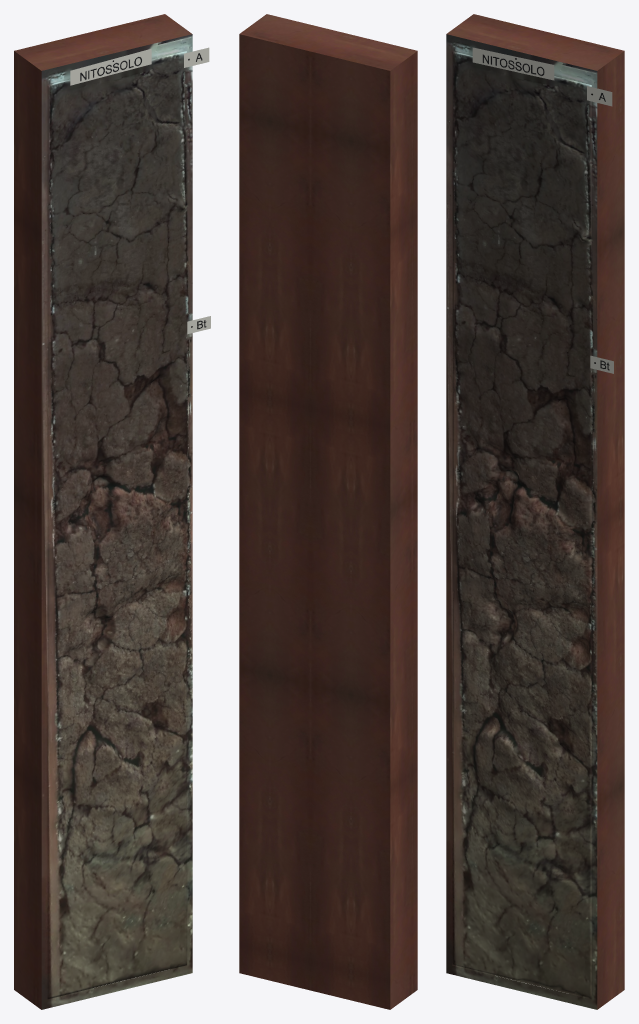
The model's file is perfil_11_11_nitossolo.glb.
3 renders of one model, left to right at view 1: azimuth 30°, elevation 25°; view 2: azimuth 150°, elevation 25°; view 3: azimuth 330°, elevation 25°, orthographic.
Parts seen in each view (by area): view 1: Solo_11_11, Madeira_11_11, Moldura_11_11, Rotulos_11_11; view 2: Madeira_11_11; view 3: Solo_11_11, Madeira_11_11, Moldura_11_11, Rotulos_11_11.
Part boxes in pixels (<box>): Solo_11_11: <box>47,51,187,999</box>; Madeira_11_11: <box>14,14,191,1009</box>; Moldura_11_11: <box>41,34,192,1009</box>; Rotulos_11_11: <box>70,47,210,334</box>; Madeira_11_11: <box>239,14,417,1009</box>; Solo_11_11: <box>451,51,591,999</box>; Madeira_11_11: <box>446,14,624,1009</box>; Moldura_11_11: <box>446,34,597,1009</box>; Rotulos_11_11: <box>472,47,613,373</box>.
Size of the model in its own units: 0.3825 by 2.04 by 0.1299.
4 materials, 4 textured.
